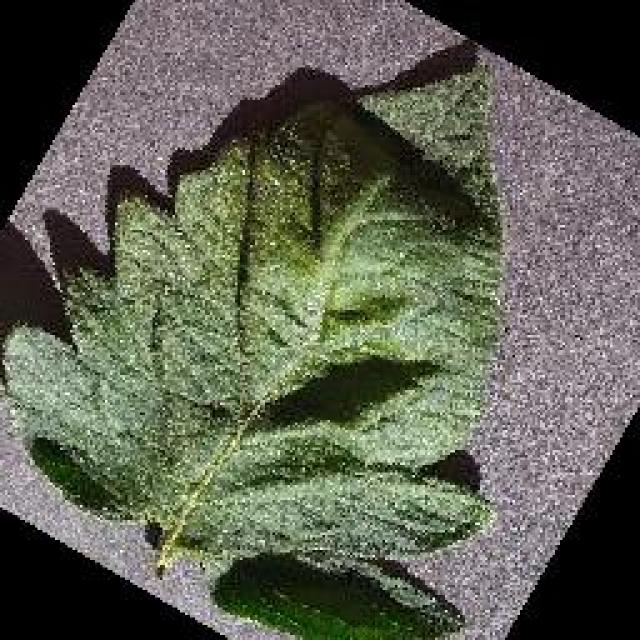Tomato___healthy: (4, 66, 513, 638)
